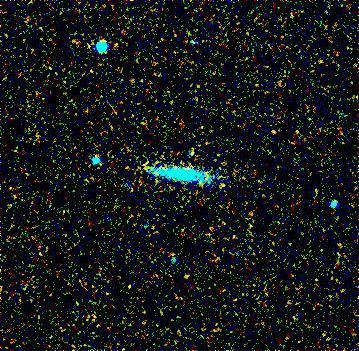star: (210, 175, 240, 205)
